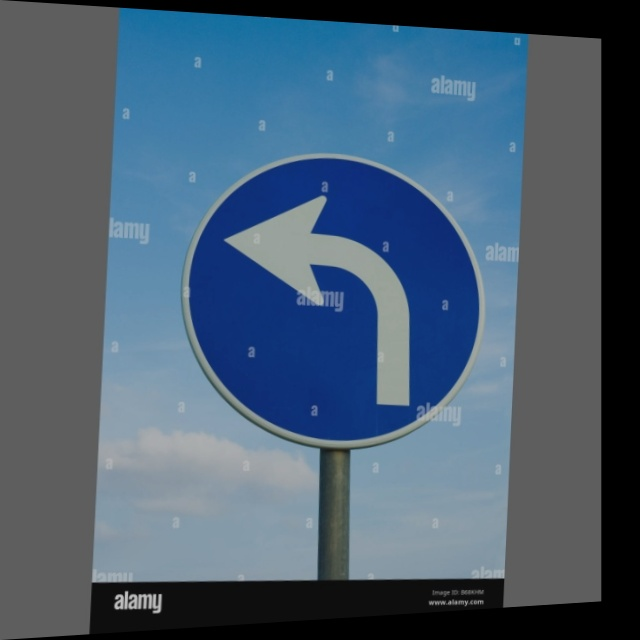Compulsory_Turn_Left_Ahead: (178, 145, 478, 460)
